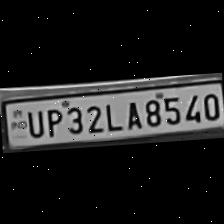0: (199, 88, 220, 120)
2: (82, 98, 102, 132)
3: (62, 102, 83, 134)
4: (179, 90, 200, 122)
5: (160, 92, 182, 124)
8: (140, 94, 162, 127)
A: (120, 96, 142, 128)
L: (100, 97, 122, 130)
P: (42, 103, 62, 135)
U: (23, 105, 44, 136)
